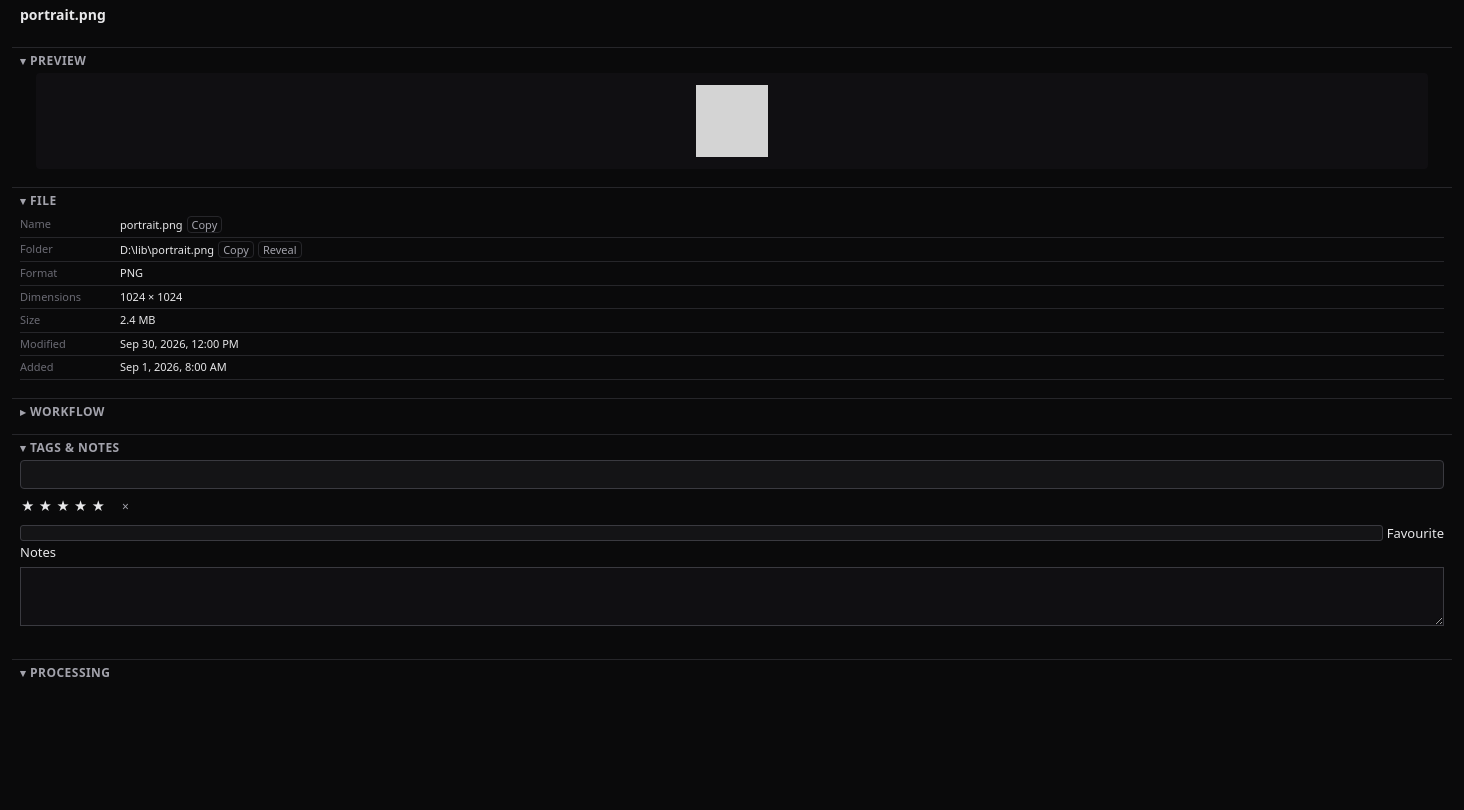
Test: INS-07 — workflow › starts collapsed and shows the node count without the JSON
Click the button "▸ Workflow" at (67, 411), box [12,398,1452,424]
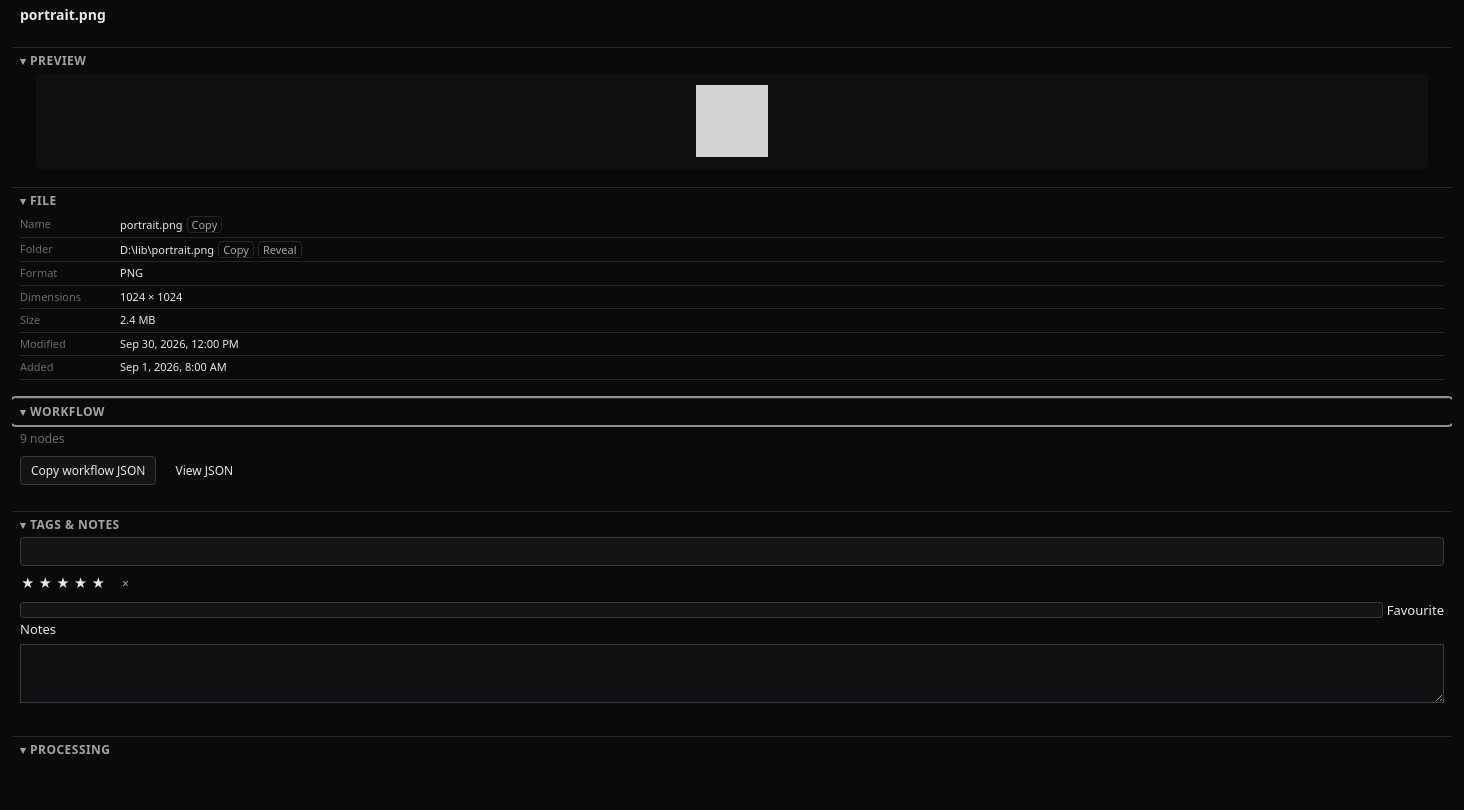
Check: the text "9 nodes" is shown, box [20,430,65,446]
